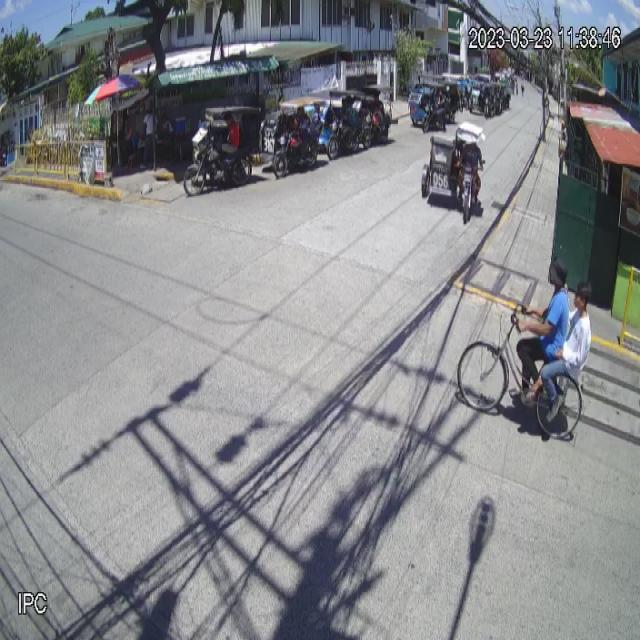Tricycle: (422, 120, 486, 226)
